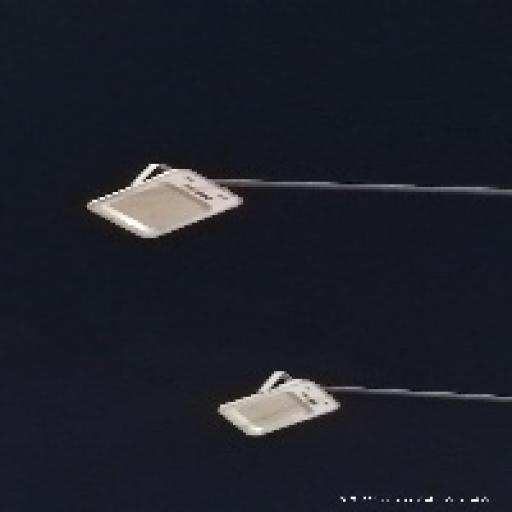Not Working: (78, 146, 266, 267), (189, 362, 355, 450)
